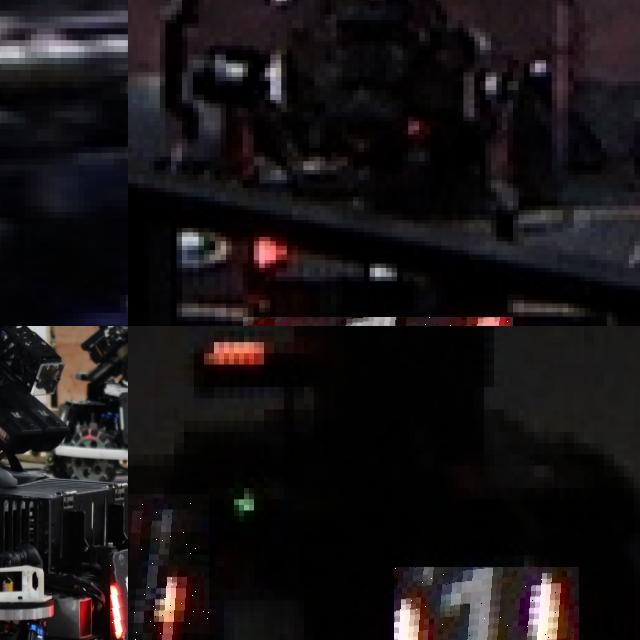R1: (394, 566, 579, 640), (128, 493, 209, 640)
Rs: (109, 552, 128, 640)
